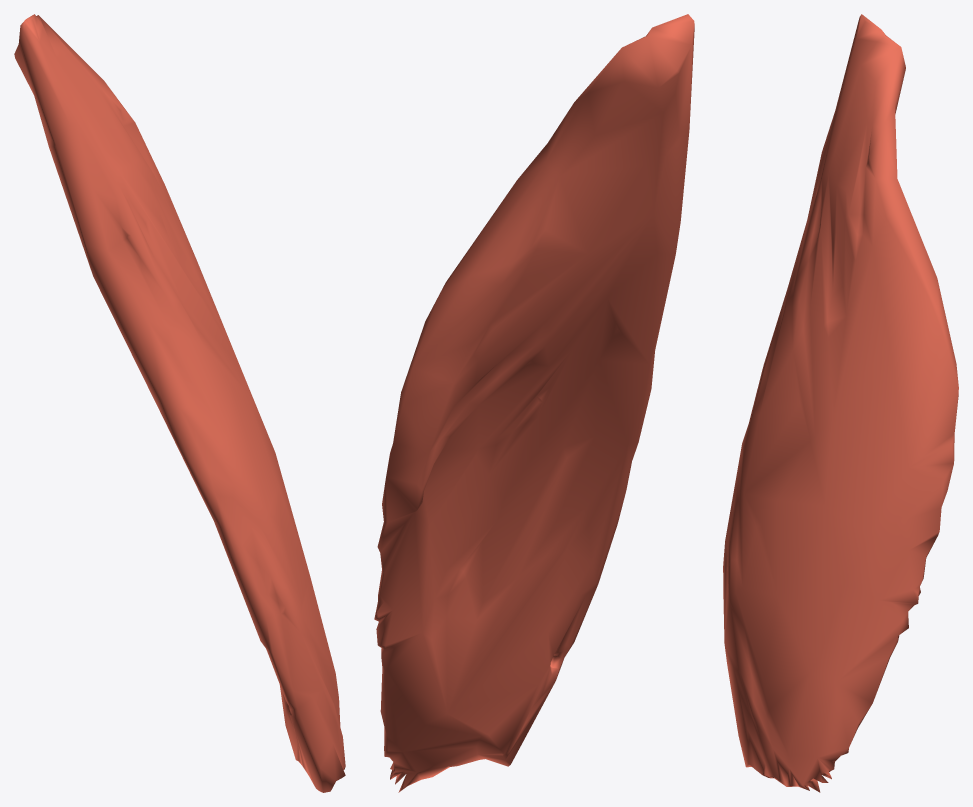
The model's file is opponens-digiti.glb.
3 renders of one model, left to right at view 1: azimuth 30°, elevation 25°; view 2: azimuth 150°, elevation 25°; view 3: azimuth 270°, elevation 25°, orthographic. The views are drawn at different scales.
Visible parts, largest first — view 1: Opponens digiti minimi of hand.r; view 2: Opponens digiti minimi of hand.r; view 3: Opponens digiti minimi of hand.r.
Part boxes in pixels (x1,y1,x2,y2): Opponens digiti minimi of hand.r: (14, 14, 345, 792); Opponens digiti minimi of hand.r: (374, 14, 694, 792); Opponens digiti minimi of hand.r: (723, 14, 958, 792).
Size of the model in its own units: 0.0185 by 0.0477 by 0.0154.
